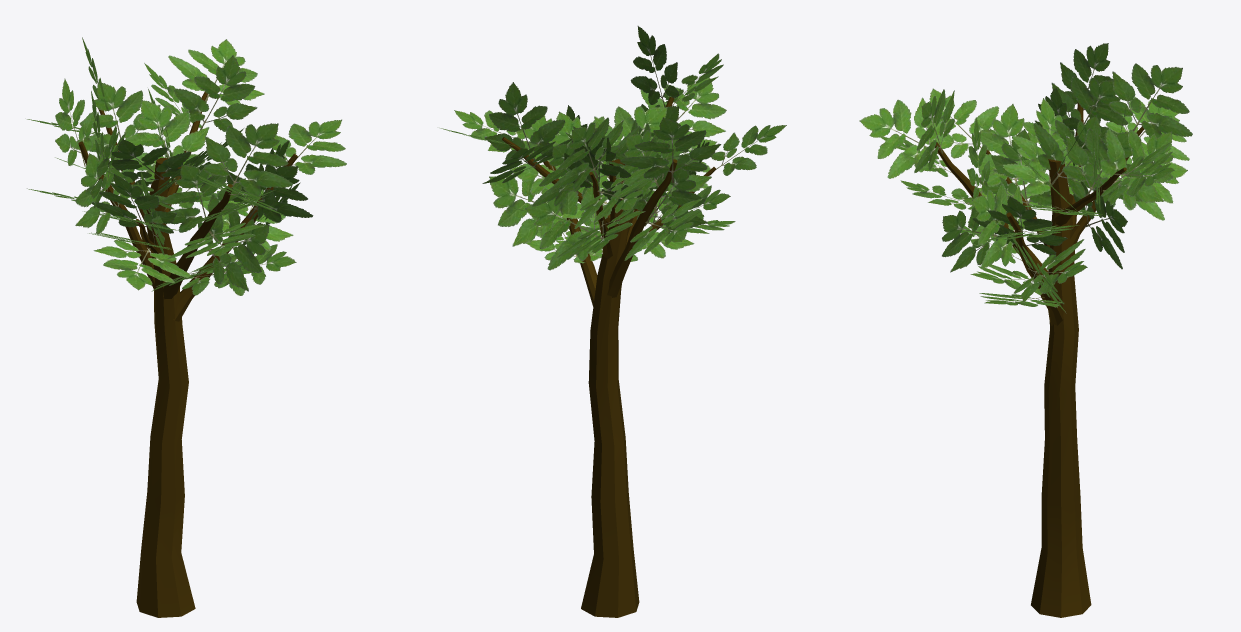
Rendered from tree1.fbx.
The picture shows the model from 3 angles, left to right: view 1: azimuth 30°, elevation 25°; view 2: azimuth 150°, elevation 25°; view 3: azimuth 270°, elevation 25°; orthographic projection.
Visible parts, largest first — view 1: pCylinder1, pPlane23, pPlane8, pPlane34, pPlane27, pPlane28, pPlane1, pPlane12, pPlane22, pPlane20, pPlane6, pPlane38 (+13 smaller); view 2: pCylinder1, pPlane15, pPlane8, pPlane32, pPlane10, pPlane3, pPlane23, pPlane25, pPlane13, pPlane18, pPlane11, pPlane17 (+16 smaller); view 3: pCylinder1, pPlane10, pPlane24, pPlane7, pPlane37, pPlane14, pPlane9, pPlane4, pPlane27, pPlane18, pPlane2, pPlane20 (+20 smaller).
Boxes of the visible parts, box(x1,y1,x2,y2) form: pCylinder1: box(136, 157, 195, 617); pPlane23: box(203, 123, 292, 196); pPlane8: box(174, 55, 257, 131); pPlane34: box(121, 100, 209, 184); pPlane27: box(198, 194, 269, 291); pPlane28: box(151, 164, 245, 232); pPlane1: box(268, 119, 346, 174); pPlane12: box(70, 82, 160, 160); pPlane22: box(93, 240, 193, 290); pPlane20: box(91, 174, 176, 237); pPlane6: box(168, 39, 264, 105); pPlane38: box(108, 139, 190, 186); pCylinder1: box(581, 159, 639, 617); pPlane15: box(620, 117, 721, 183); pPlane8: box(484, 82, 565, 164); pPlane32: box(525, 182, 611, 270); pPlane10: box(551, 117, 623, 189); pPlane3: box(489, 166, 560, 246); pPlane23: box(630, 26, 679, 106); pPlane25: box(640, 77, 726, 137); pPlane13: box(624, 198, 702, 260); pPlane18: box(711, 125, 786, 175); pPlane11: box(574, 166, 652, 228); pPlane17: box(623, 163, 707, 232); pCylinder1: box(1031, 159, 1091, 617); pPlane10: box(1108, 63, 1192, 138); pPlane24: box(859, 97, 945, 178); pPlane7: box(1100, 129, 1173, 209); pPlane37: box(1033, 115, 1108, 198); pPlane14: box(1051, 75, 1128, 138); pPlane9: box(1062, 128, 1143, 207); pPlane4: box(972, 183, 1026, 268); pPlane27: box(942, 194, 1007, 272); pPlane18: box(925, 88, 999, 158); pPlane2: box(972, 196, 1067, 254); pPlane20: box(968, 104, 1037, 186).
Bounding box in the file's own units: 24.2 × 38.55 × 24.68.
